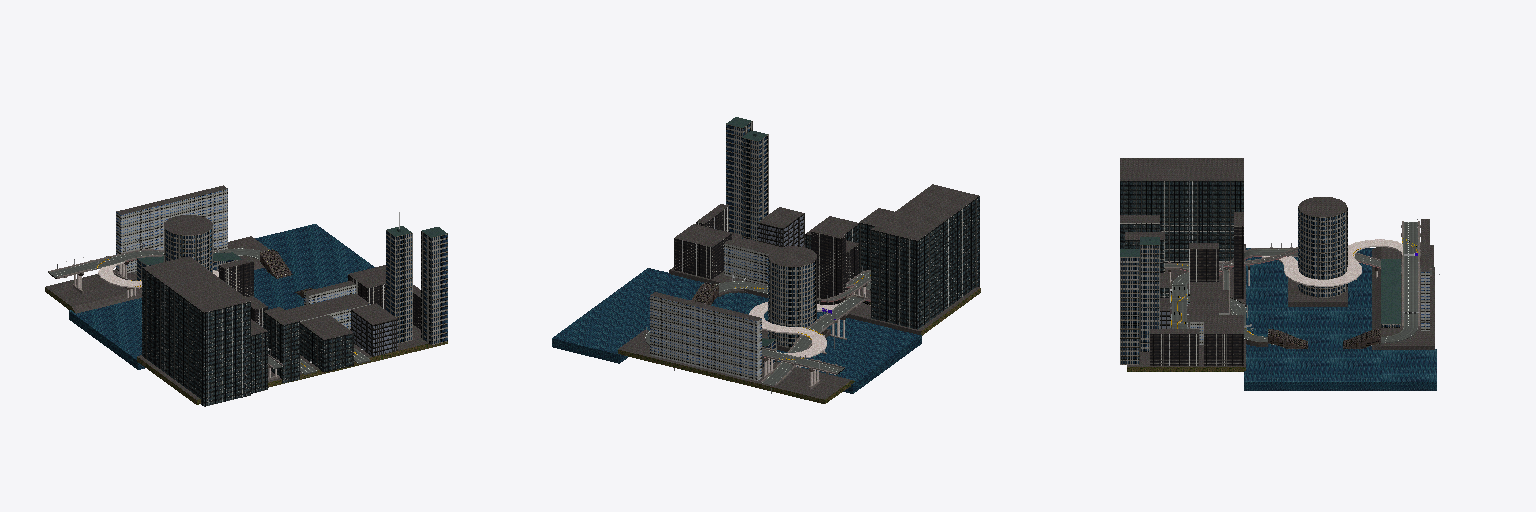
3 views of the same model, side by side, from view 1: azimuth 30°, elevation 25°; view 2: azimuth 150°, elevation 25°; view 3: azimuth 270°, elevation 25° (orthographic).
Parts seen in each view (by area): view 1: Selection; view 2: Selection; view 3: Selection.
Part boxes in pixels (left/top/right/bottom): Selection: left=45, top=185, right=447, bottom=406; Selection: left=552, top=117, right=980, bottom=403; Selection: left=1120, top=158, right=1439, bottom=390.
Bounding box in the file's own units: 8248 × 4136 × 8276.
Materials: 61 (53 with a texture image).